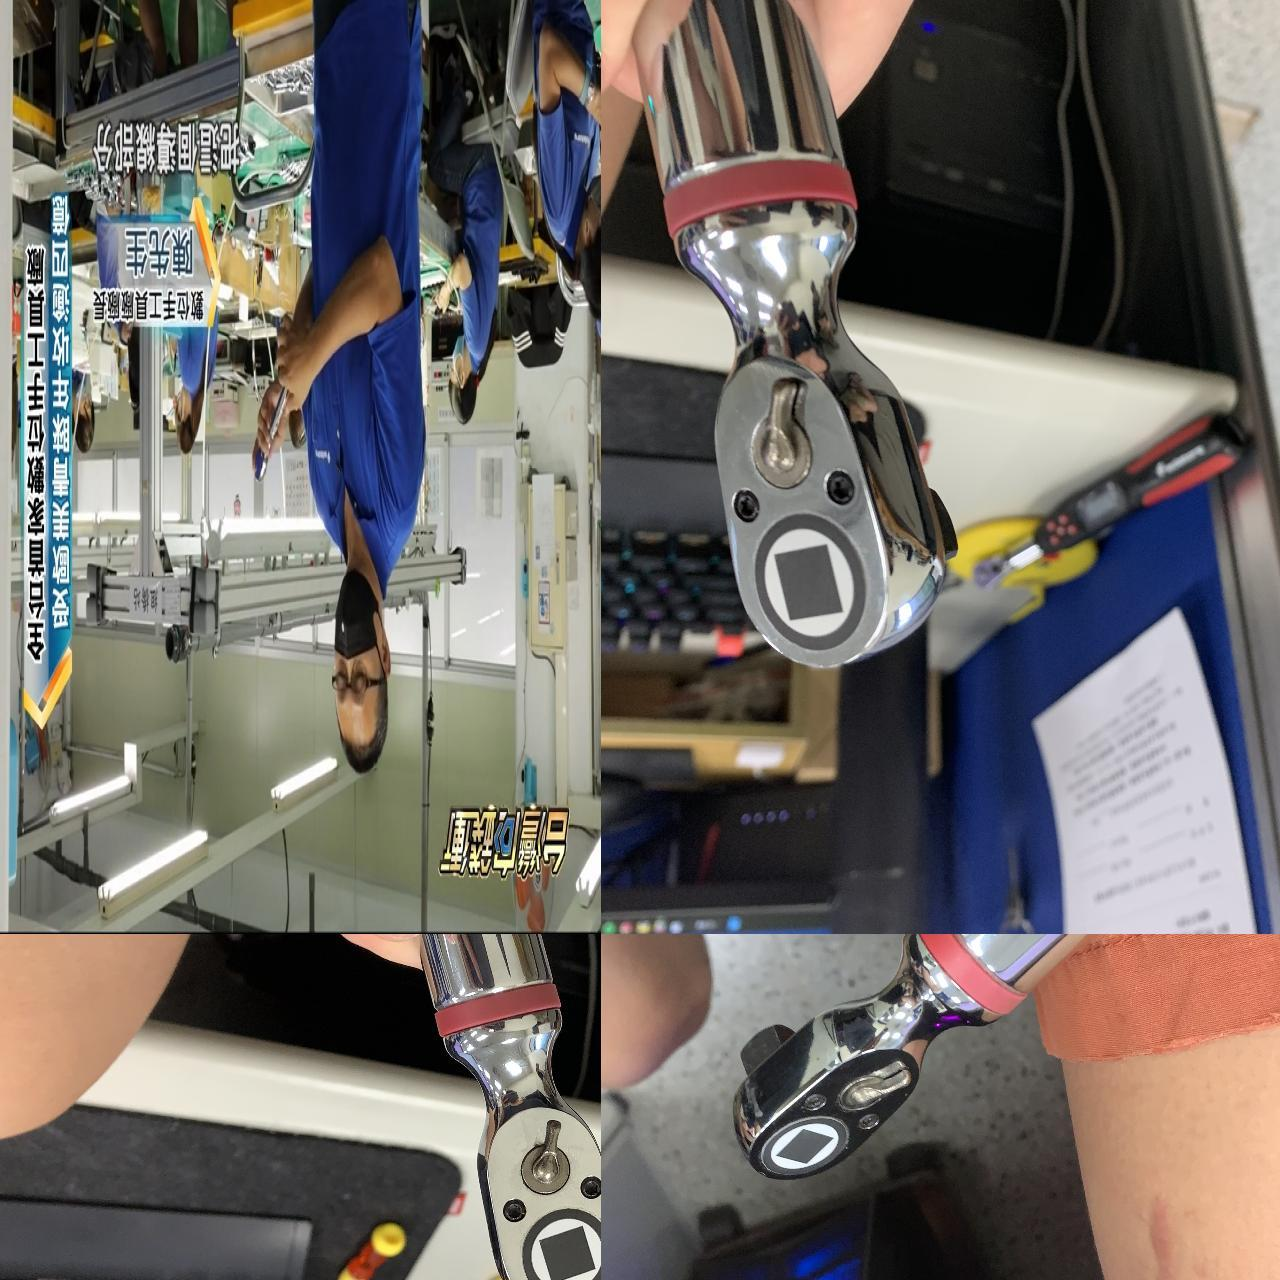Tool: (665, 205, 958, 667), (729, 934, 990, 1185), (440, 1016, 601, 1280)
